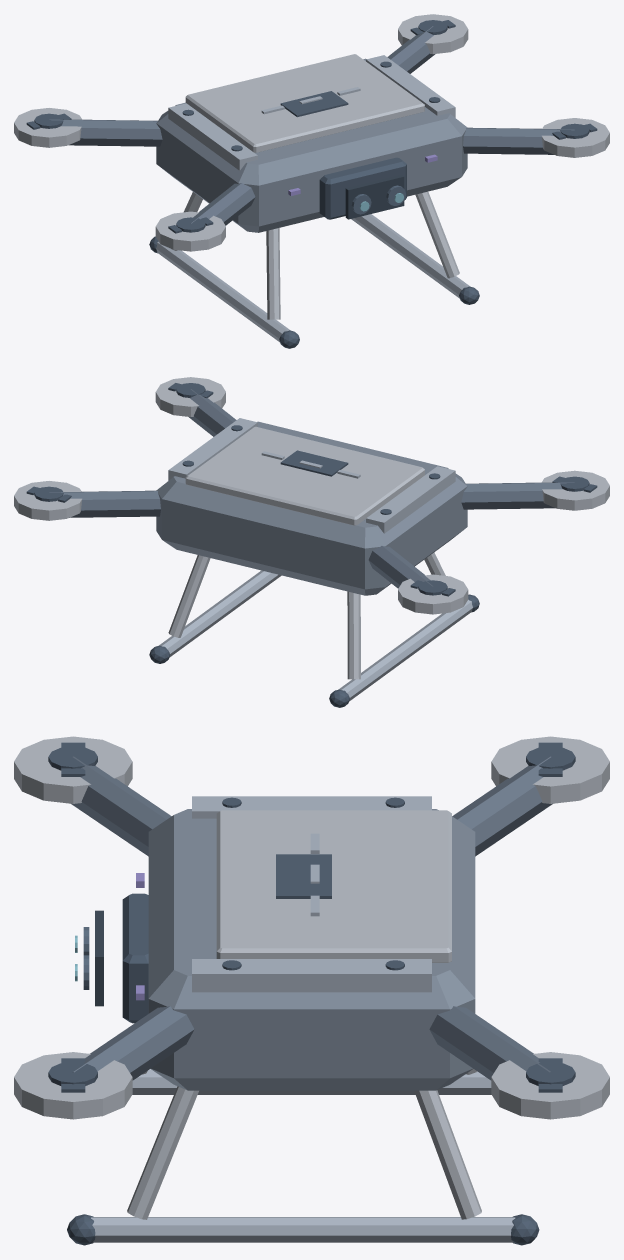
The model's file is frame-heavy.glb.
3 views of the same model, one above another, from view 1: azimuth 30°, elevation 25°; view 2: azimuth 150°, elevation 25°; view 3: azimuth 270°, elevation 25° (orthographic). The views are drawn at different scales.
Parts seen in each view (by area): view 1: 000_aerodynamic_hull, 001_top_service_cover, 028_landing_skid, 036_camera_module, 006_carbon_arm, 021_carbon_arm, 044_armoured_side_plate, 033_landing_skid, 017_motor_mount, 022_motor_mount, 007_motor_mount, 012_motor_mount (+7 smaller); view 2: 000_aerodynamic_hull, 001_top_service_cover, 028_landing_skid, 016_carbon_arm, 011_carbon_arm, 033_landing_skid, 044_armoured_side_plate, 007_motor_mount, 012_motor_mount, 017_motor_mount, 022_motor_mount, 047_armoured_side_plate (+5 smaller); view 3: 000_aerodynamic_hull, 001_top_service_cover, 033_landing_skid, 047_armoured_side_plate, 012_motor_mount, 022_motor_mount, 007_motor_mount, 017_motor_mount, 011_carbon_arm, 021_carbon_arm, 006_carbon_arm, 016_carbon_arm (+13 smaller).
Part boxes in pixels (x1,y1,x2,y2): 000_aerodynamic_hull: (156,58,467,232); 001_top_service_cover: (185,54,424,152); 028_landing_skid: (156,241,290,342); 036_camera_module: (319,157,406,219); 006_carbon_arm: (49,119,162,146); 021_carbon_arm: (463,127,574,154); 044_armoured_side_plate: (168,103,257,170); 033_landing_skid: (351,214,469,298); 017_motor_mount: (155,211,225,251); 022_motor_mount: (541,118,609,157); 007_motor_mount: (14,108,81,147); 012_motor_mount: (398,14,468,54); 000_aerodynamic_hull: (156,421,467,595); 001_top_service_cover: (185,426,424,525); 028_landing_skid: (338,599,473,701); 016_carbon_arm: (461,482,574,509); 011_carbon_arm: (49,490,160,517); 033_landing_skid: (159,570,281,657); 044_armoured_side_plate: (366,466,455,533); 007_motor_mount: (398,574,468,614); 012_motor_mount: (14,481,82,520); 017_motor_mount: (541,470,609,510); 022_motor_mount: (155,377,225,416); 047_armoured_side_plate: (168,418,257,480); 000_aerodynamic_hull: (148,809,475,1090); 001_top_service_cover: (216,810,451,962); 033_landing_skid: (91,1217,515,1242); 047_armoured_side_plate: (192,959,431,992); 012_motor_mount: (491,1052,609,1119); 022_motor_mount: (14,1052,132,1119); 007_motor_mount: (491,736,609,803); 017_motor_mount: (14,736,132,803); 011_carbon_arm: (429,1006,550,1080); 021_carbon_arm: (73,1006,194,1080); 006_carbon_arm: (452,756,552,856); 016_carbon_arm: (71,756,171,856).
Bounding box in the file's own units: 5.4 × 2.04 × 3.72.
